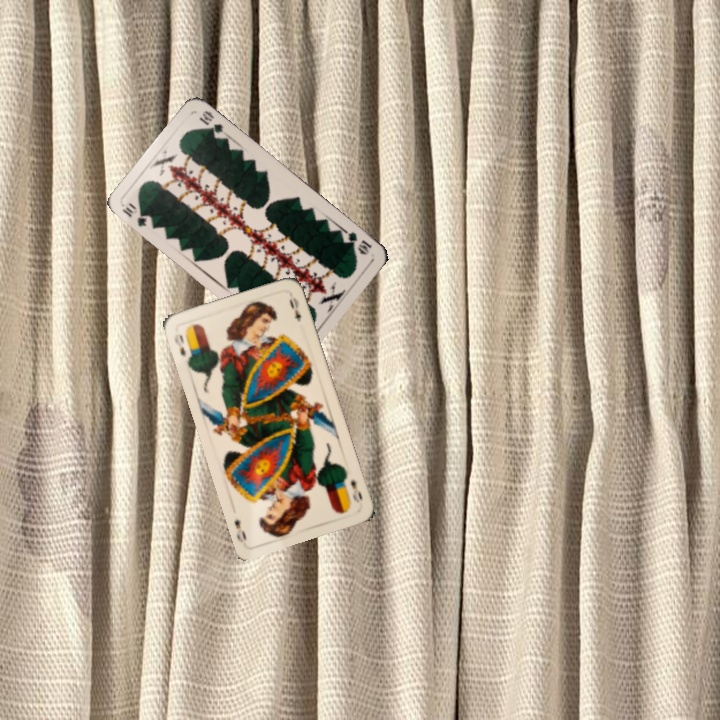EO: (346, 476, 365, 505), (170, 329, 188, 359)
G10: (340, 226, 374, 257), (118, 201, 149, 229)
